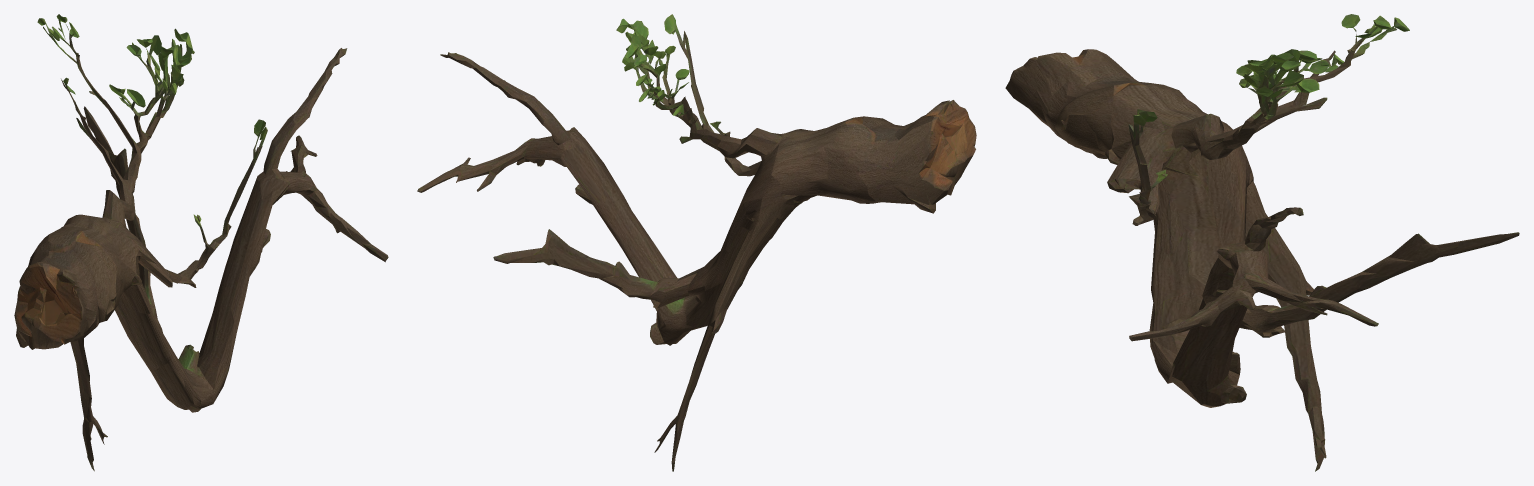
The model's file is meshy-bough.glb.
The picture shows the model from 3 angles, left to right: view 1: azimuth 30°, elevation 25°; view 2: azimuth 150°, elevation 25°; view 3: azimuth 270°, elevation 25°; orthographic projection. The views are drawn at different scales.
Bounding box in the file's own units: 1 × 0.976 × 1.
1 material, 1 textured.
